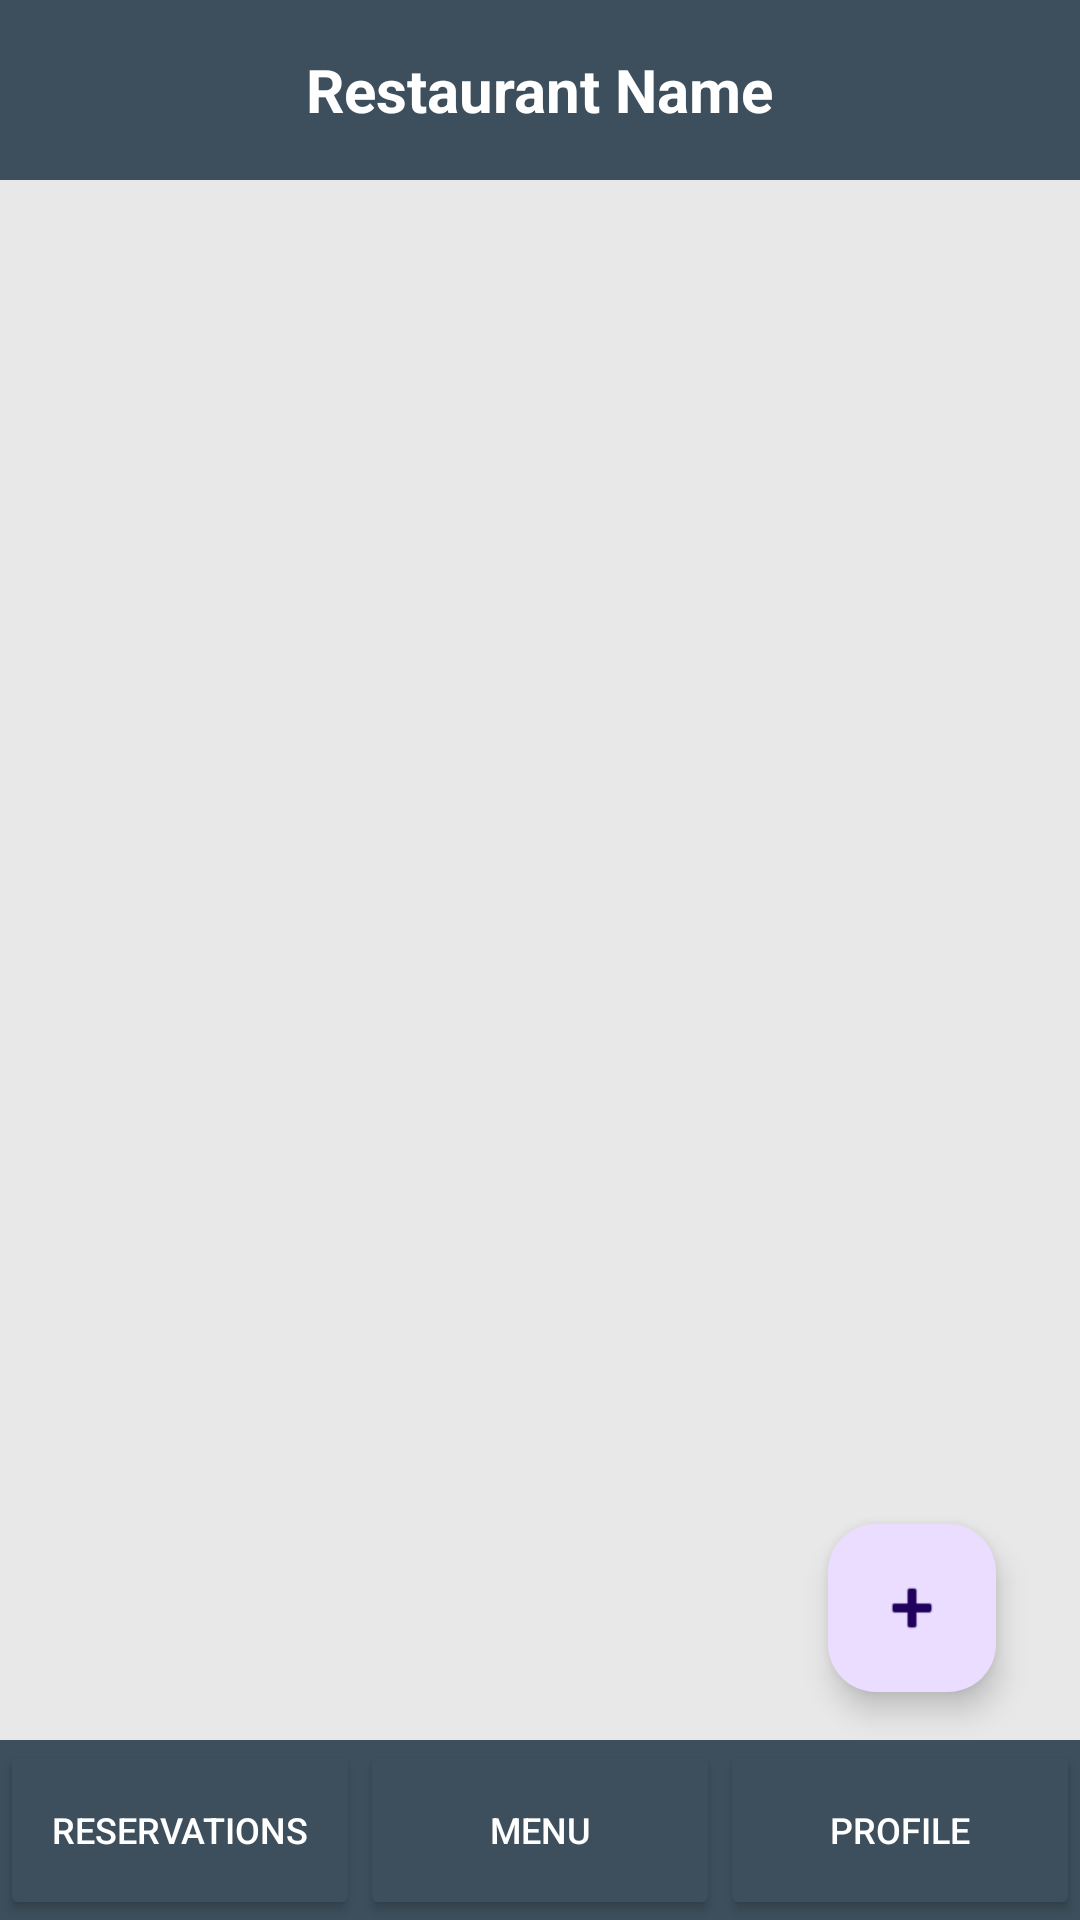

Where icons sit on this 1080x1920 app screen, as bbox(x1, y1, x2, y2):
add: bbox(828, 1524, 996, 1692)
